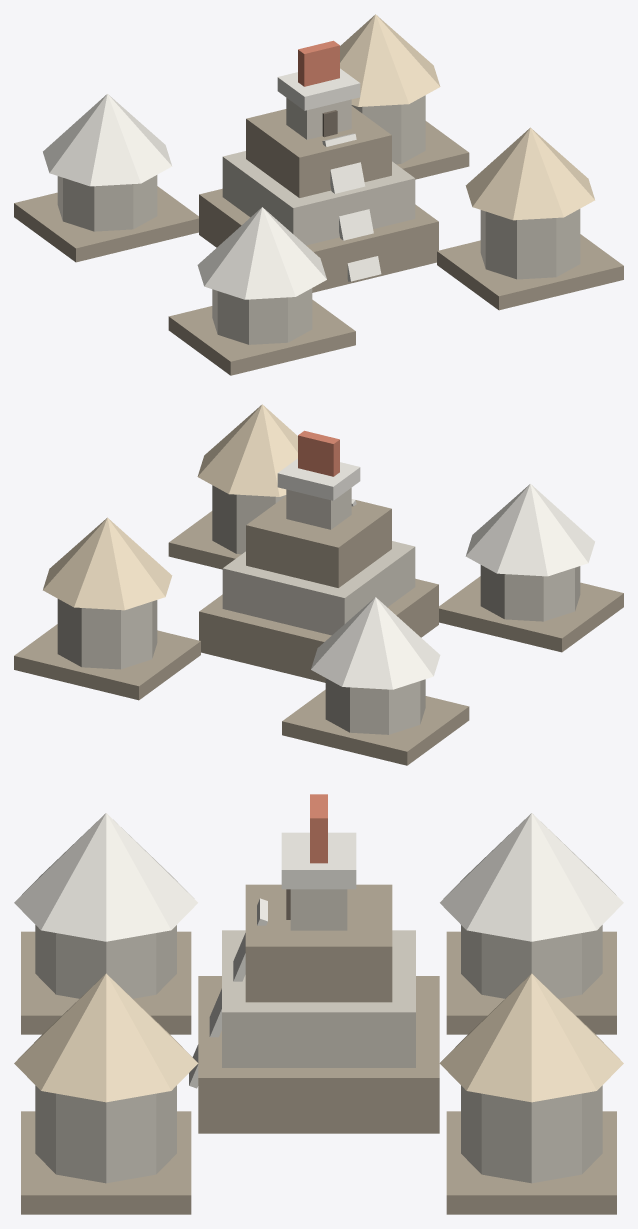
Rendered from town.glb.
The picture shows the model from 3 angles, top to bottom: view 1: azimuth 30°, elevation 25°; view 2: azimuth 150°, elevation 25°; view 3: azimuth 270°, elevation 25°; orthographic projection. The views are drawn at different scales.
Parts seen in each view (by area): view 1: mesoamerican_town; view 2: mesoamerican_town; view 3: mesoamerican_town.
Boxes of the visible parts, x1,y1,x2,y2 form: mesoamerican_town: [14, 14, 623, 375]; mesoamerican_town: [14, 404, 623, 765]; mesoamerican_town: [14, 794, 623, 1214].
Bounding box in the file's own units: 0.88 × 0.43 × 0.86.
